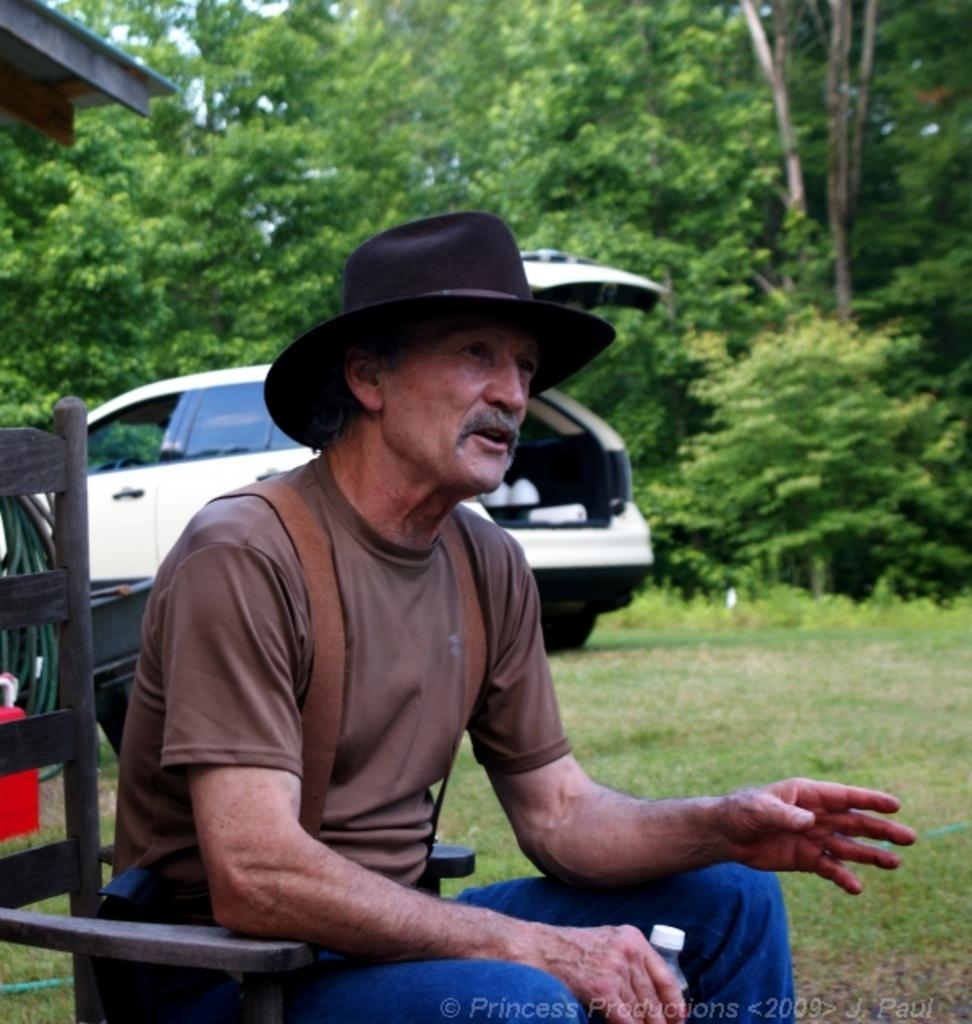Hat: (261, 210, 616, 450)
